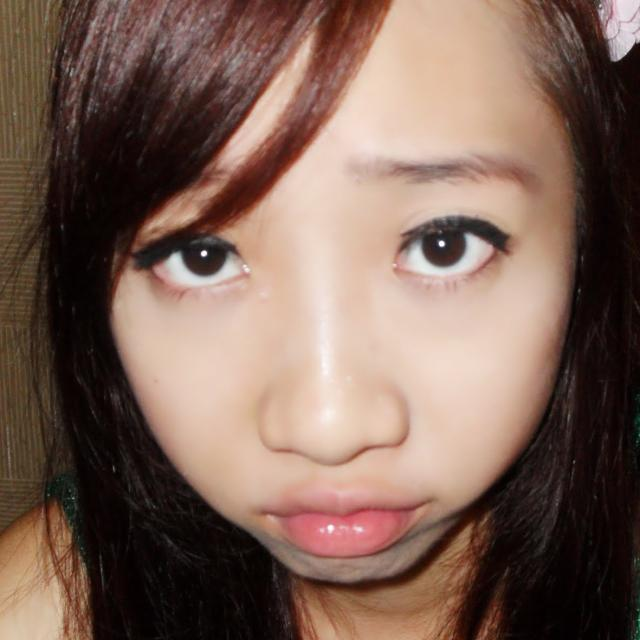Depress: (89, 0, 589, 583)
